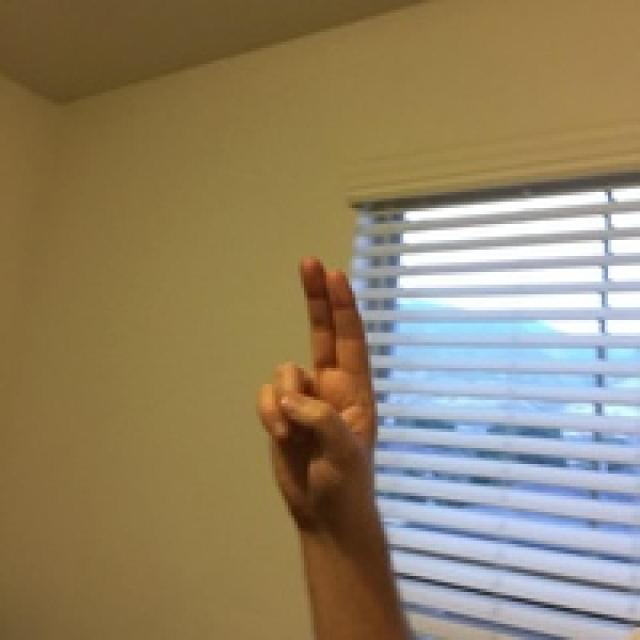U: (192, 195, 439, 587)
